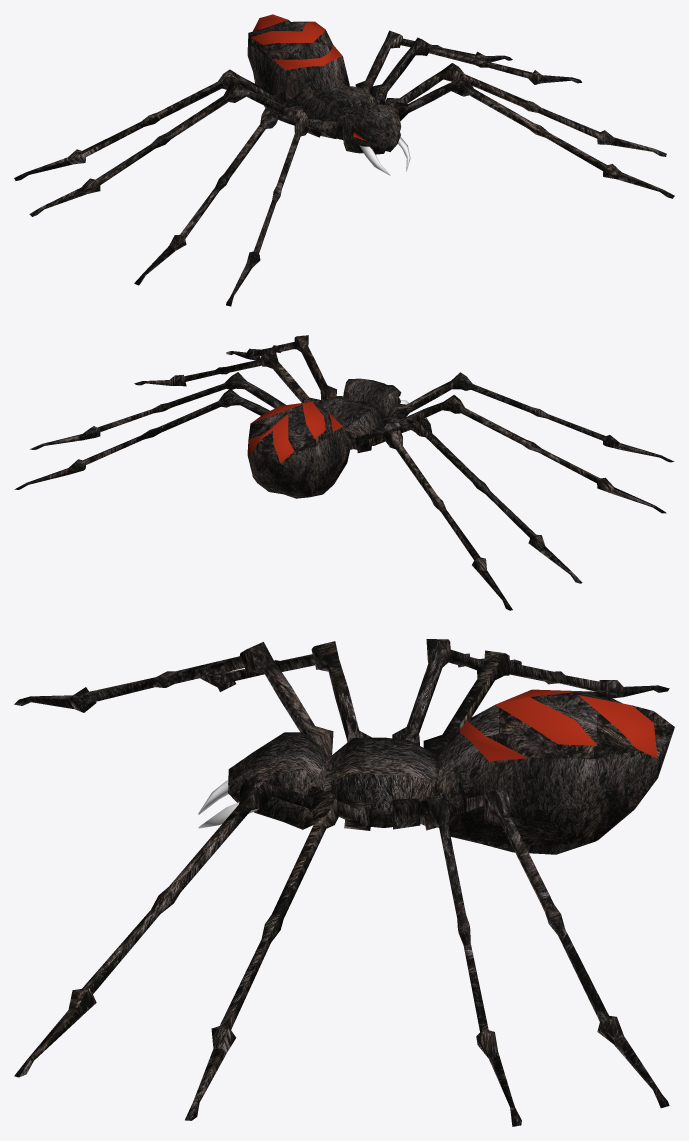
File: araña.fbx
3 renders of one model, top to bottom at view 1: azimuth 30°, elevation 25°; view 2: azimuth 150°, elevation 25°; view 3: azimuth 270°, elevation 25°, orthographic. The views are drawn at different scales.
Parts seen in each view (by area): view 1: Araña; view 2: Araña; view 3: Araña.
Part boxes in pixels (box(x1,y1,x2,y2)): Araña: box(14, 14, 674, 306); Araña: box(14, 335, 674, 610); Araña: box(14, 639, 674, 1126).
Size of the model in its own units: 1883 by 386 by 1134.
2 materials, 2 textured.
